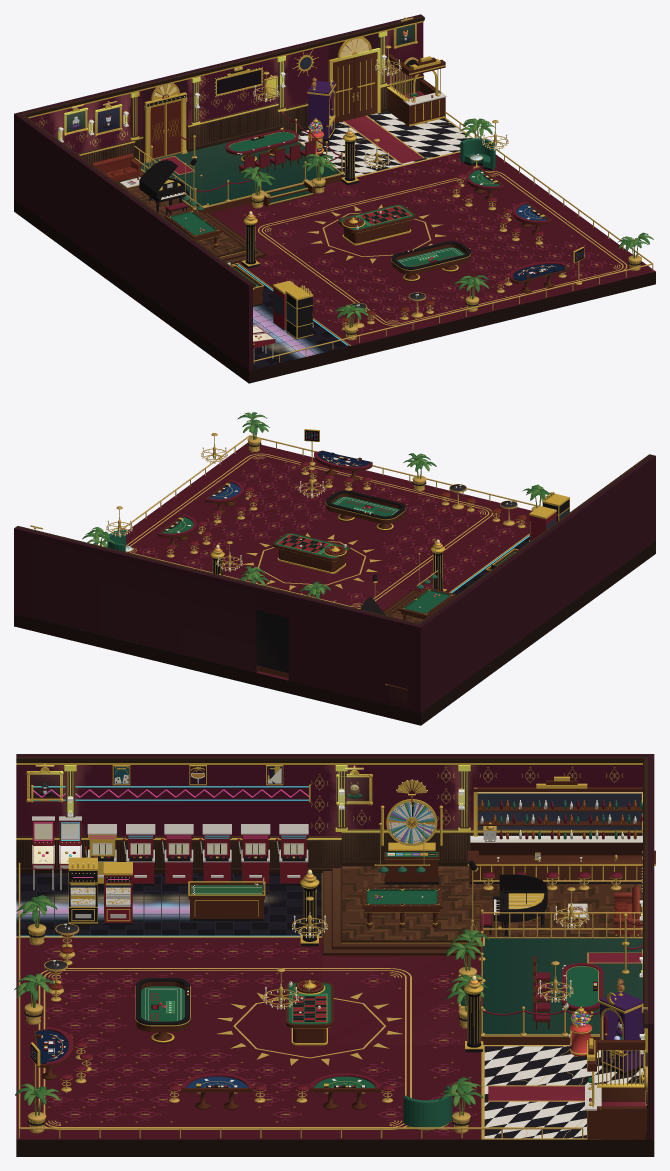
Rendered from casino.glb.
The picture shows the model from 3 angles, top to bottom: view 1: azimuth 30°, elevation 25°; view 2: azimuth 150°, elevation 25°; view 3: azimuth 270°, elevation 25°; orthographic projection. The views are drawn at different scales.
Visible parts, largest first — view 1: Casino_Static, Prop_VipDoorR, Prop_VipDoorL, Prop_Marquee; view 2: Casino_Static; view 3: Casino_Static, Prop_BigSixWheel.
Boxes of the visible parts, box(x1,y1,x2,y2) form: Casino_Static: box(14, 14, 655, 383); Prop_VipDoorR: box(165, 99, 182, 156); Prop_VipDoorL: box(150, 103, 165, 159); Prop_Marquee: box(217, 70, 260, 93); Casino_Static: box(14, 412, 655, 725); Casino_Static: box(14, 754, 655, 1156); Prop_BigSixWheel: box(386, 799, 437, 845).
Size of the model in its own units: 20.09 by 5.14 by 20.12.
